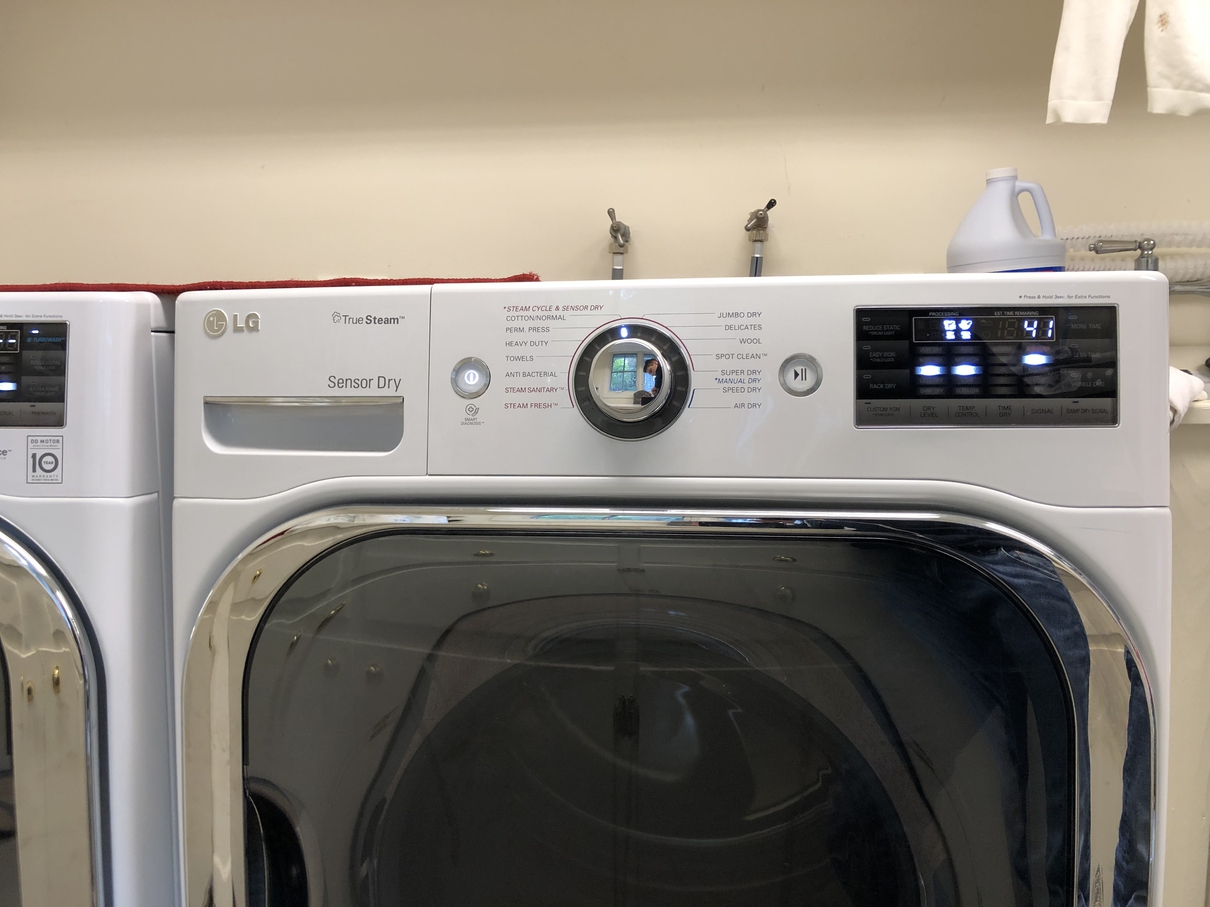status: (901, 303, 1061, 352)
